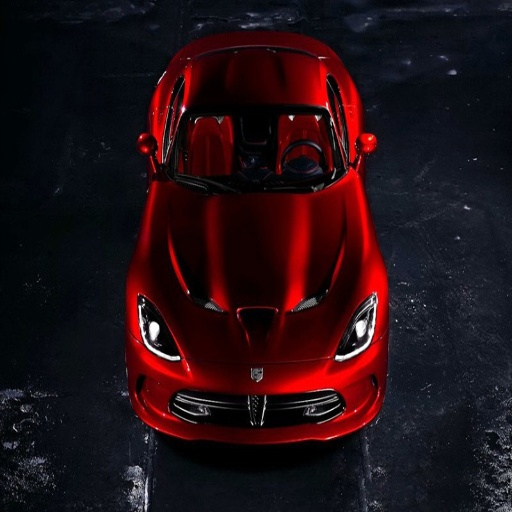front_bumper: (130, 343, 189, 431), (354, 341, 385, 399)
hood: (154, 174, 343, 327)
